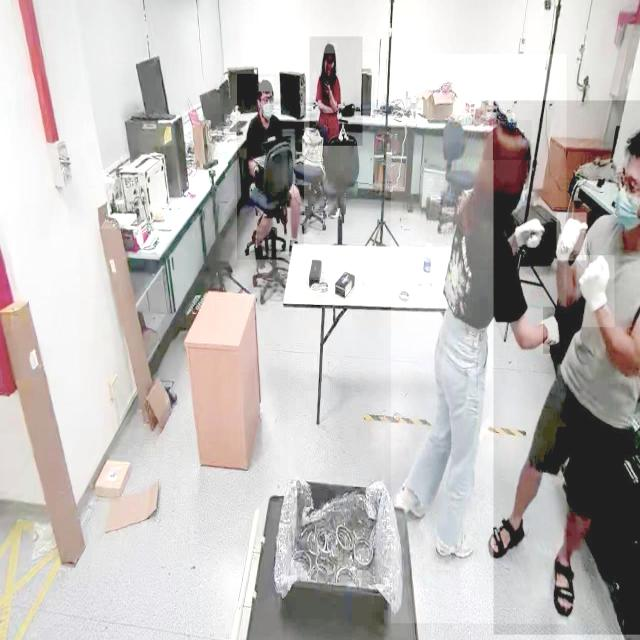face_mask: (610, 182, 640, 225), (260, 94, 274, 125)
face_nomask: (324, 57, 336, 74)
hand_glove: (576, 255, 614, 327), (513, 208, 545, 263), (556, 212, 586, 260), (543, 306, 559, 354)
hand_noglove: (322, 77, 332, 91)
head_nohelmet: (482, 120, 532, 161), (258, 78, 274, 92), (324, 43, 337, 54)
person: (390, 54, 566, 624), (493, 100, 640, 636), (236, 74, 304, 260), (309, 36, 363, 146)
shoes: (432, 520, 481, 564), (390, 480, 432, 525)
